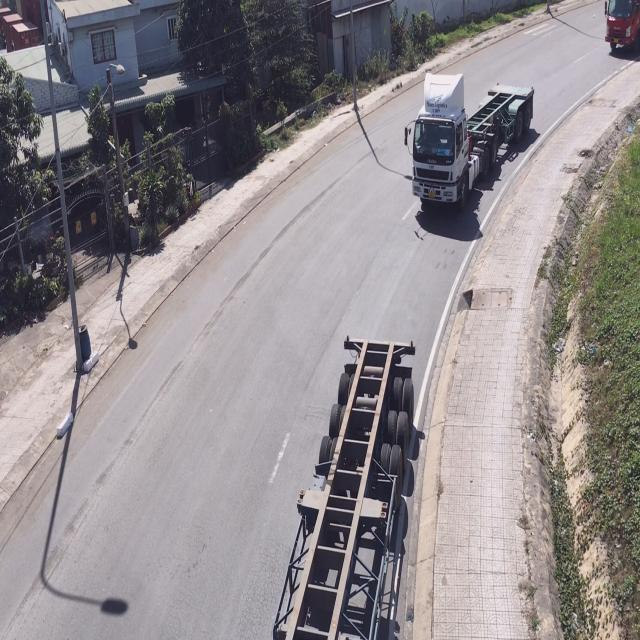truck: (275, 342, 417, 640), (404, 74, 533, 210), (606, 1, 640, 55)
